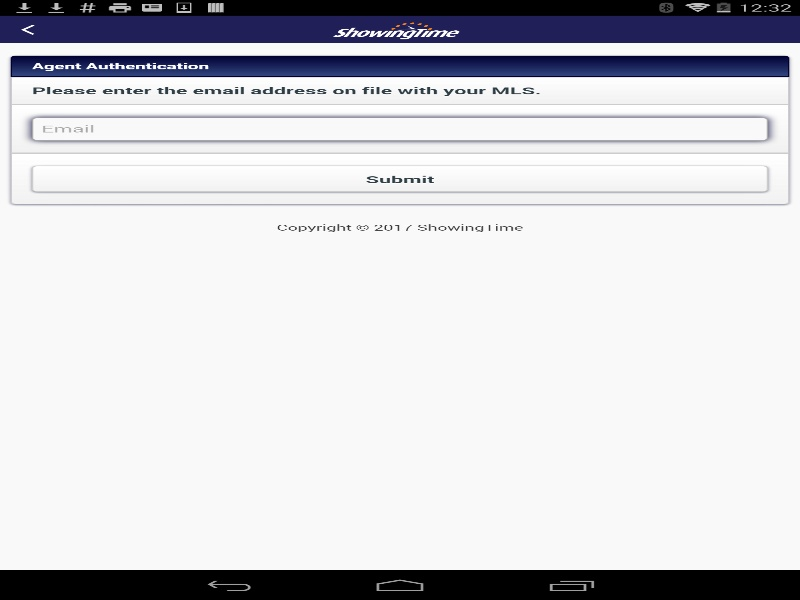Input: (41, 118, 760, 140)
